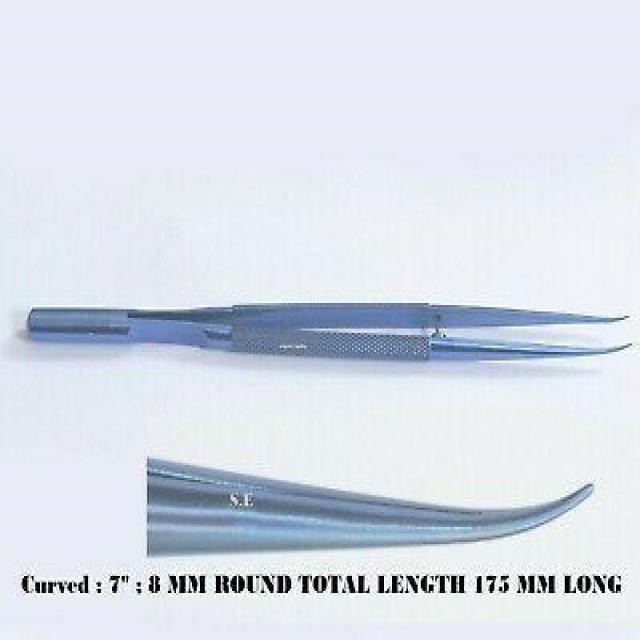Forceps: (146, 448, 596, 561), (21, 292, 638, 371)
